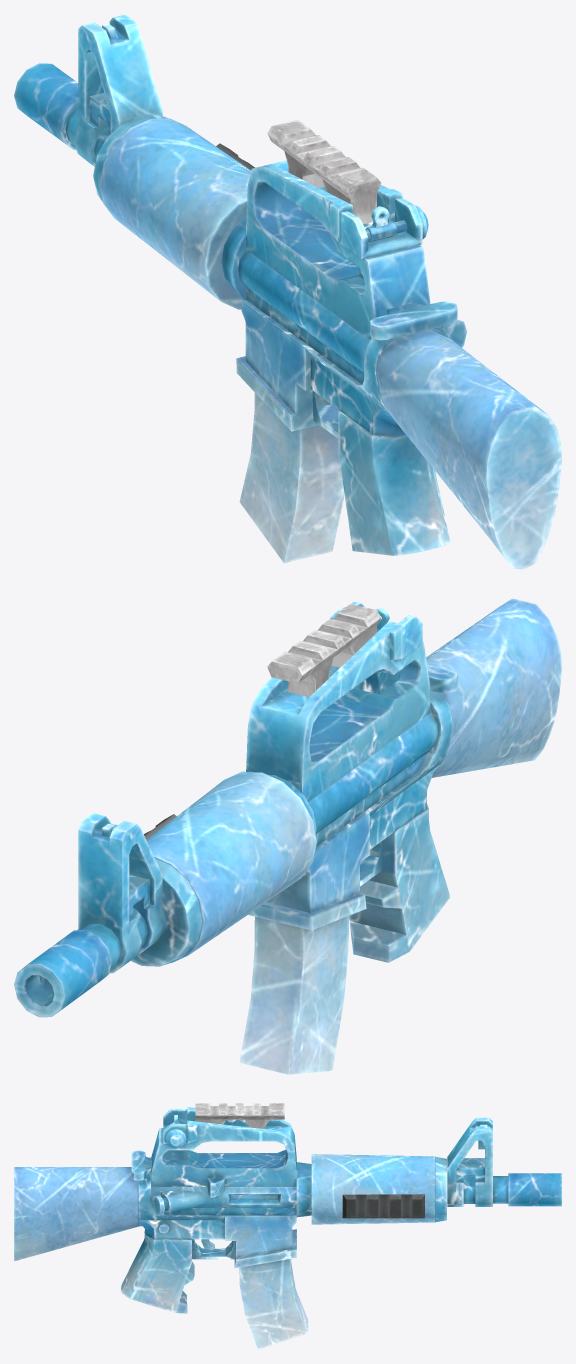
The model's file is IG_Gun_M16_Ice.fbx.
3 views of the same model, one above another, from view 1: azimuth 30°, elevation 25°; view 2: azimuth 150°, elevation 25°; view 3: azimuth 270°, elevation 25° (orthographic). The views are drawn at different scales.
Parts seen in each view (by area): view 1: WPN_M16, HideIf_Stock, ShowIf_Scope, HideIf_Muzzle; view 2: WPN_M16, HideIf_Stock, HideIf_Muzzle, ShowIf_Scope; view 3: WPN_M16, HideIf_Stock, ShowIf_Tec, HideIf_Muzzle, ShowIf_Scope.
Part boxes in pixels (left/top/right/bottom): WPN_M16: left=65, top=14, right=466, bottom=563; HideIf_Stock: left=376, top=328, right=561, bottom=569; ShowIf_Scope: left=267, top=119, right=381, bottom=224; HideIf_Muzzle: left=14, top=63, right=78, bottom=150; WPN_M16: left=78, top=602, right=457, bottom=1074; HideIf_Stock: left=426, top=598, right=561, bottom=777; HideIf_Muzzle: left=14, top=929, right=111, bottom=1017; ShowIf_Scope: left=267, top=604, right=381, bottom=696; WPN_M16: left=121, top=1107, right=508, bottom=1349; HideIf_Stock: left=14, top=1167, right=138, bottom=1261; ShowIf_Tec: left=342, top=1194, right=424, bottom=1218; HideIf_Muzzle: left=508, top=1173, right=561, bottom=1206; ShowIf_Scope: left=195, top=1103, right=284, bottom=1128.
Bounding box in the file's own units: 0.17 × 0.5272 × 1.11.
